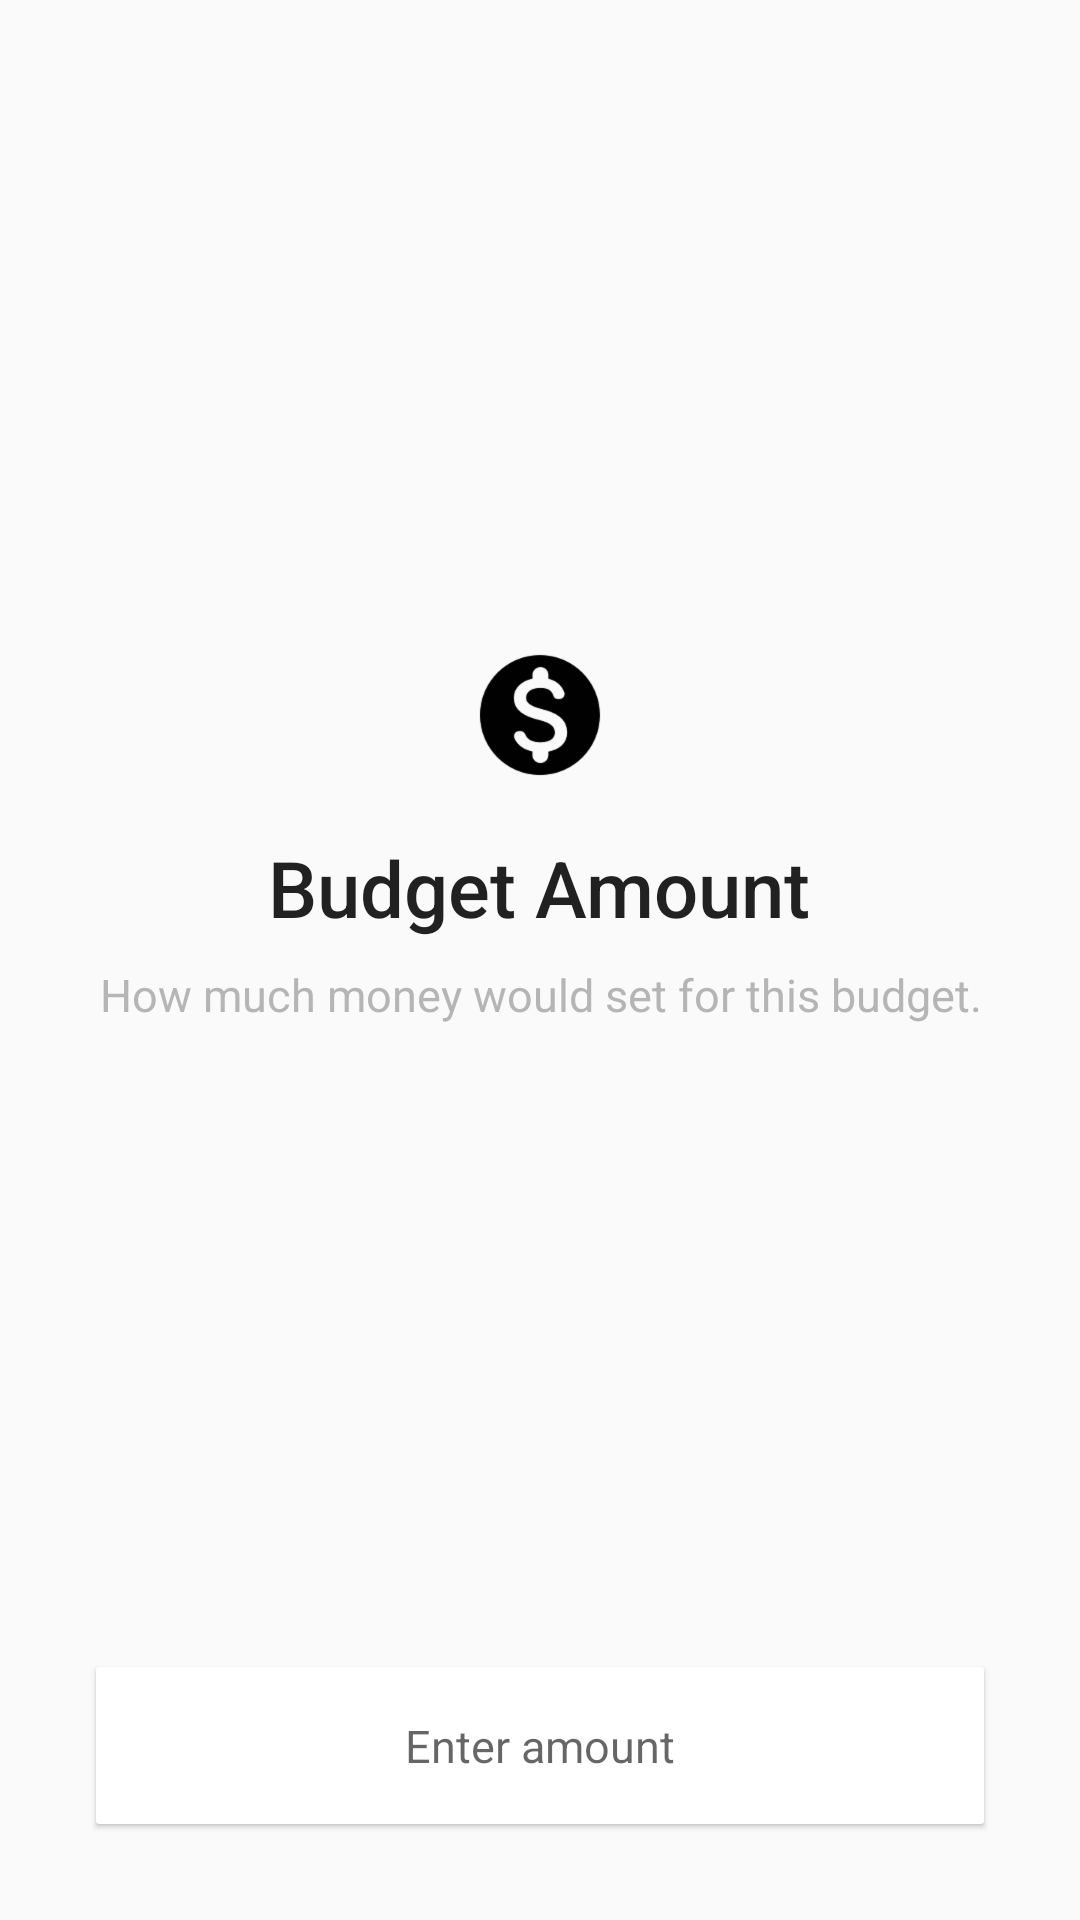

Icons on this 1080*1920 Android screen, each with its box as bbox(x1, y1, x2, y2):
coin: bbox(480, 655, 600, 775)
